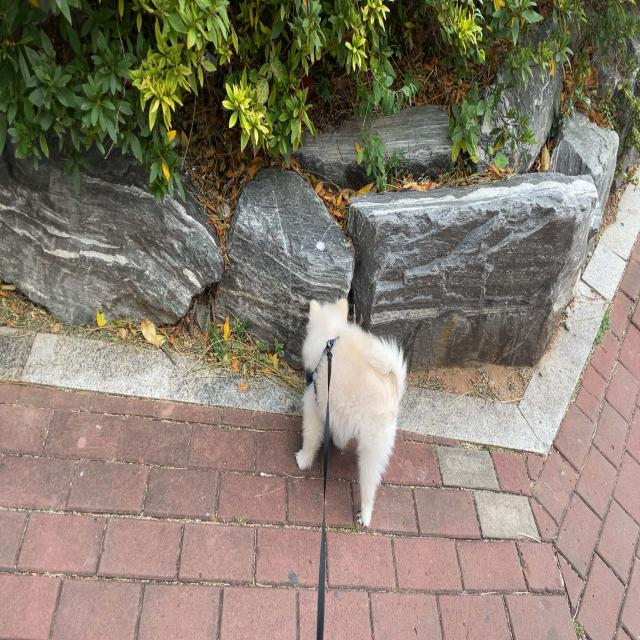Dog: (296, 299, 407, 529)
